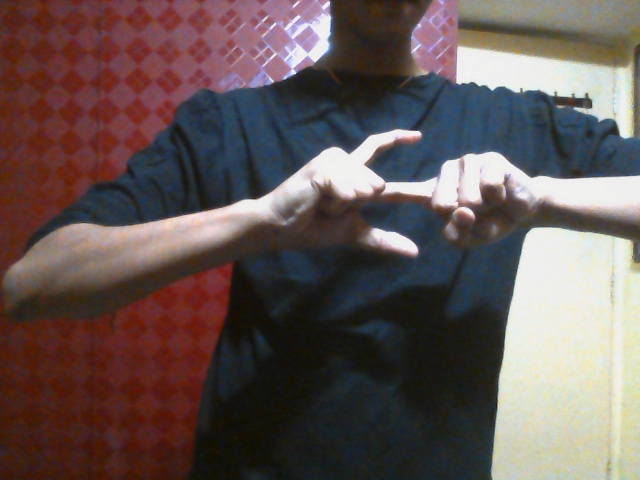E: (269, 126, 537, 266)
